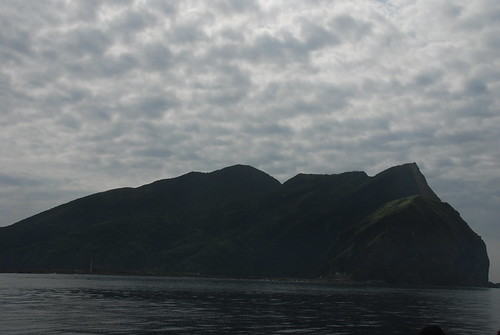turtleIsland: (5, 163, 488, 285)
